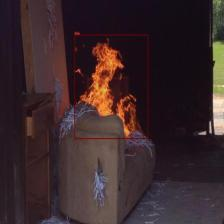fire: (74, 35, 148, 139)
